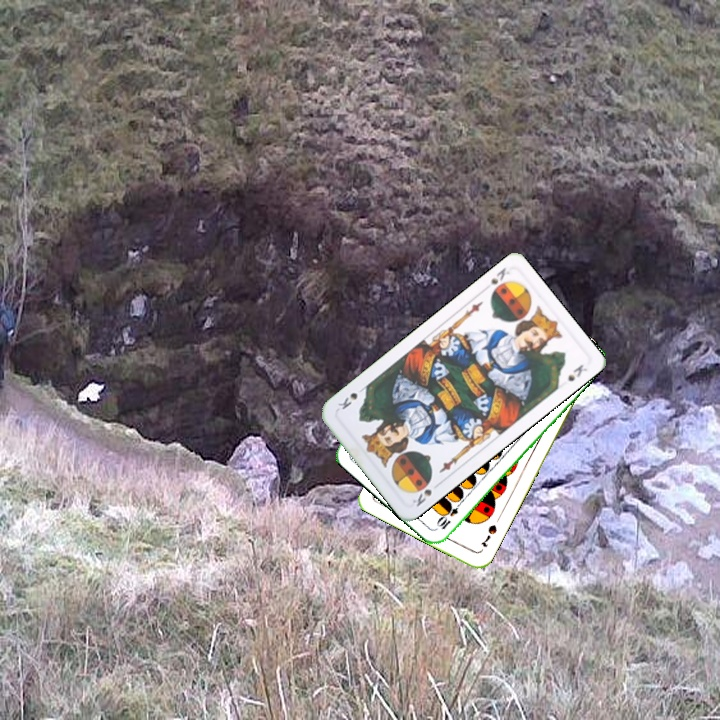E10: (432, 495, 465, 532)
S7: (477, 521, 499, 550)
SK: (408, 478, 443, 509), (486, 263, 513, 297)
